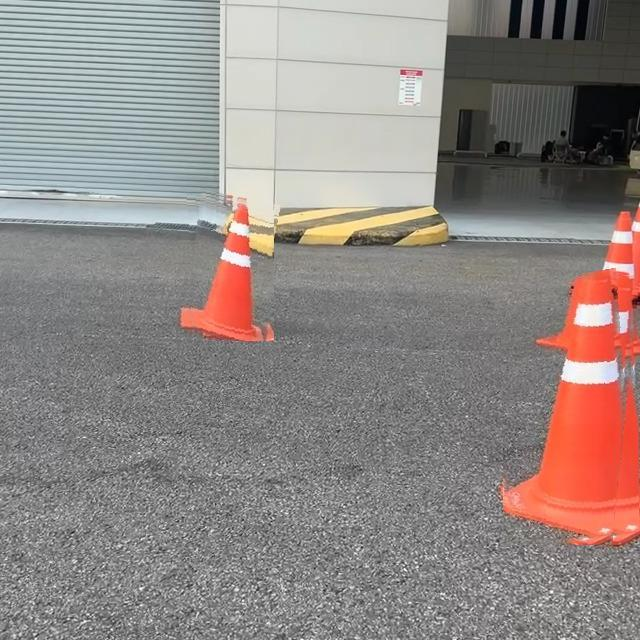fallen_object: (499, 195, 640, 627), (176, 183, 284, 389)
